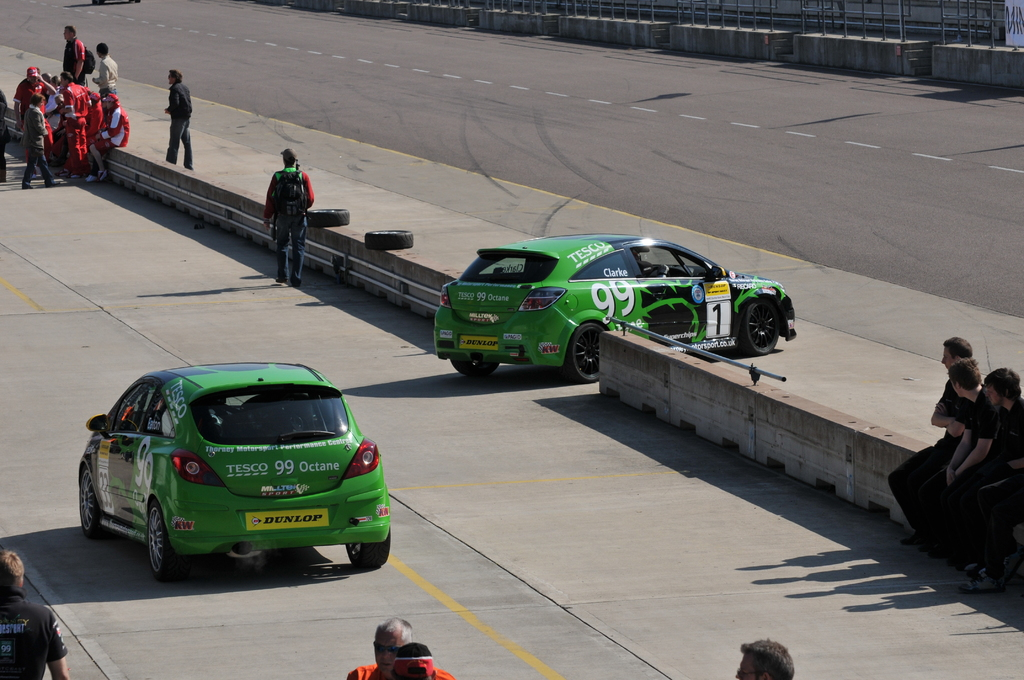Car: (74, 355, 391, 580), (433, 231, 797, 384)
